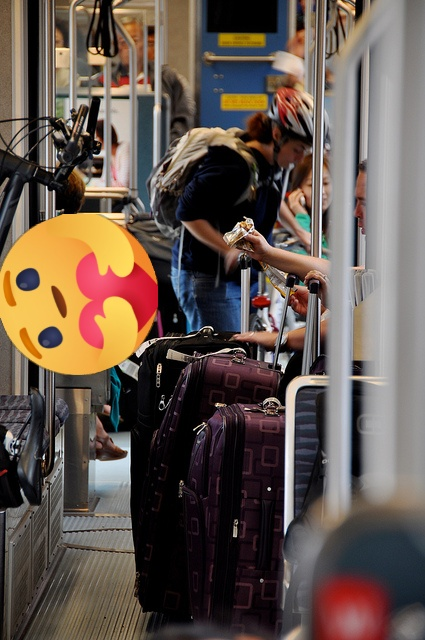care: (0, 214, 158, 375)
